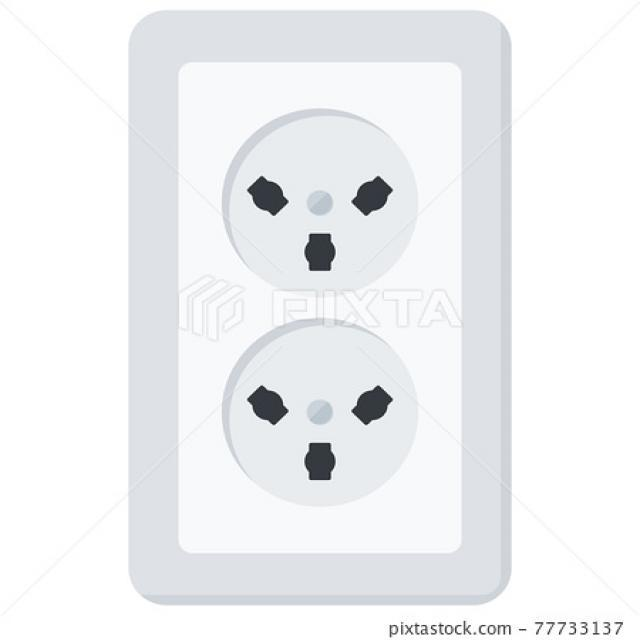typeb: (110, 4, 552, 622)
